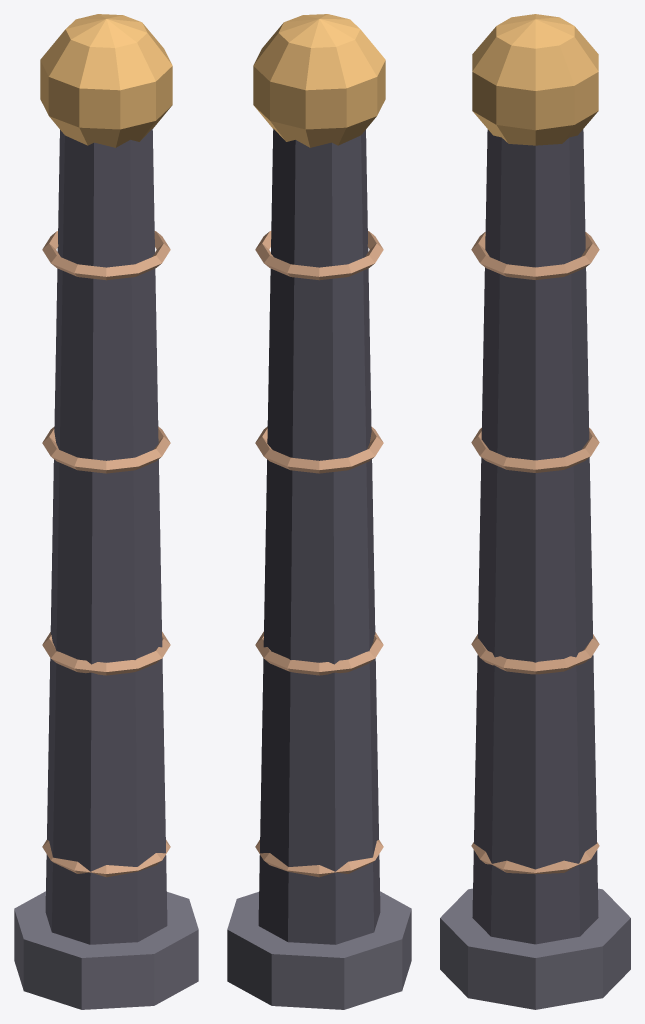
The model's file is poste_red.glb.
3 renders of one model, left to right at view 1: azimuth 30°, elevation 25°; view 2: azimuth 150°, elevation 25°; view 3: azimuth 270°, elevation 25°, orthographic.
Parts seen in each view (by area): view 1: poste_red; view 2: poste_red; view 3: poste_red.
Boxes of the visible parts, box(x1,y1,x2,y2) form: poste_red: box(14, 14, 198, 1009); poste_red: box(227, 14, 411, 1009); poste_red: box(440, 14, 630, 1009).
Bounding box in the file's own units: 0.6 × 3.3 × 0.6.
